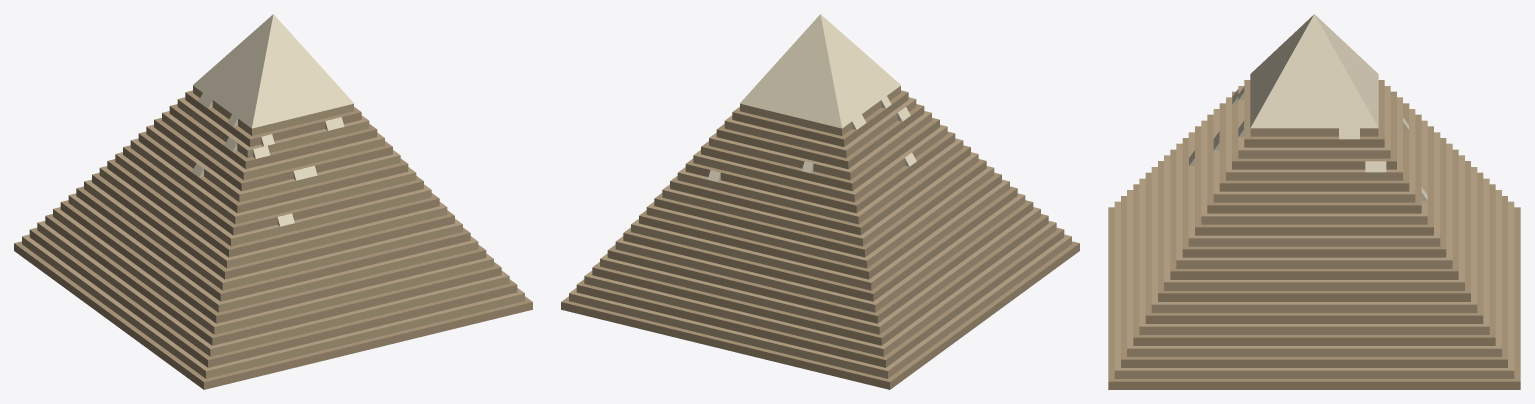
Rendered from pyramid_great.glb.
3 views of the same model, side by side, from view 1: azimuth 30°, elevation 25°; view 2: azimuth 150°, elevation 25°; view 3: azimuth 270°, elevation 25° (orthographic). The views are drawn at different scales.
Parts seen in each view (by area): view 1: pyramid_great; view 2: pyramid_great; view 3: pyramid_great.
Part boxes in pixels (x1,y1,x2,y2): pyramid_great: (14,14,532,389); pyramid_great: (561,14,1079,389); pyramid_great: (1108,14,1520,389).
Size of the model in its own units: 60 by 46.42 by 60.
